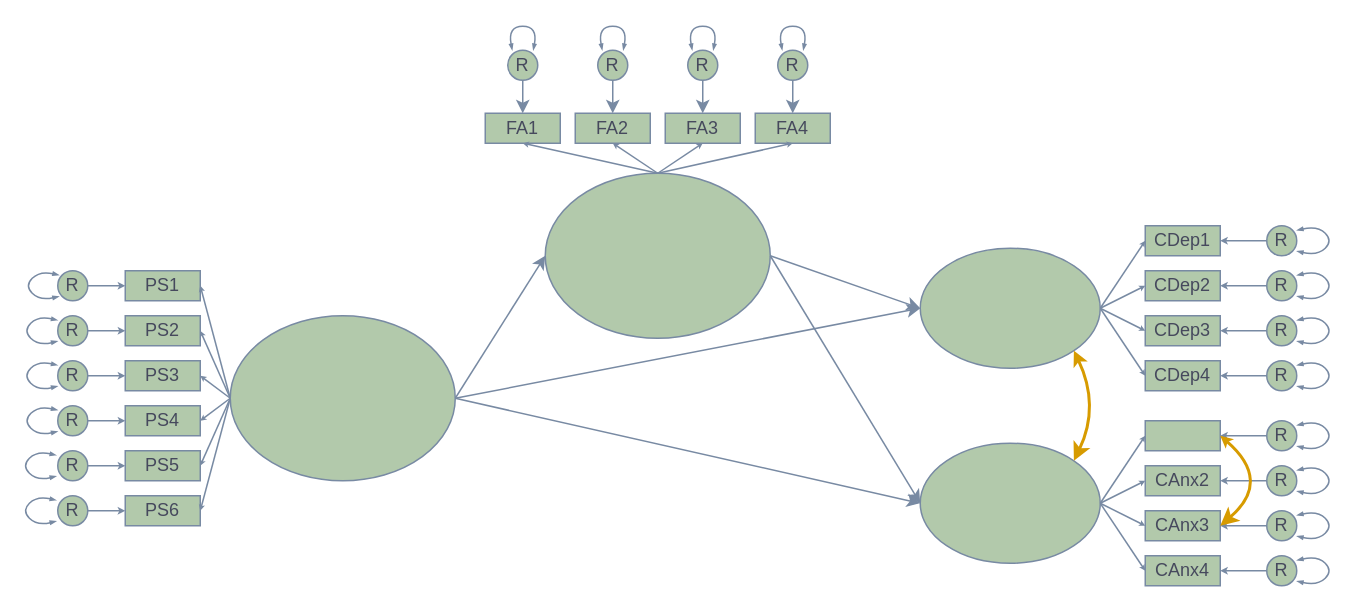
Image size: 1356x612. Some labels were removed from this diagram. The shapes that lost their labels are listed below. From the top down, each one's box as (x1, y1, x2, y2) in pixels, then its label:
(544, 172, 770, 338): Foetal Attachment
(919, 247, 1100, 368): Depression
(229, 314, 455, 481): Prenatal Stress
(1144, 419, 1220, 451): CAnx1
(919, 442, 1100, 563): Anxiety
